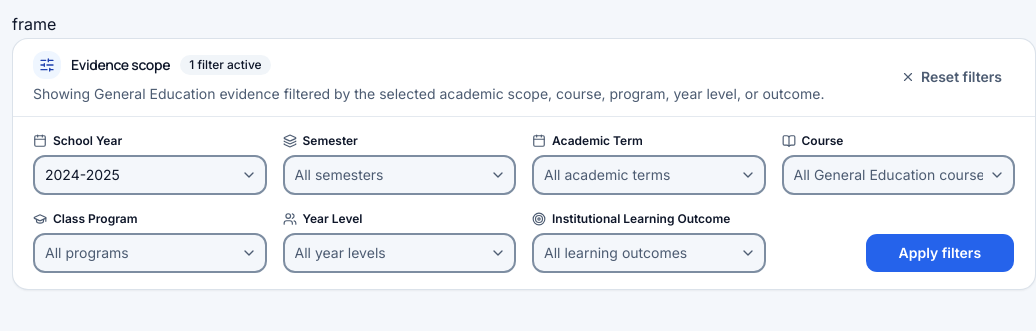
Test: GeneralEducationAnalyticsWorkspace › offers only the academic terms belonging to the selected school year
Click the dropdown labelled "academic term" at (649, 175), box [532,155,766,195]
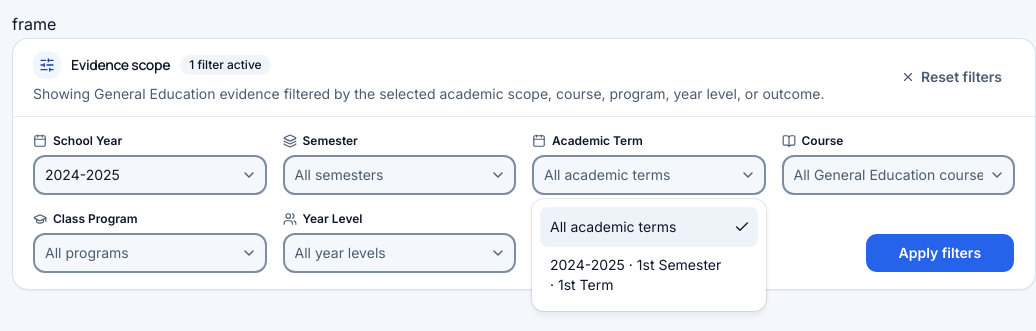
Expected: the text "2024-2025 · 1st Semester · 1st Term" is shown, [550,255,726,295]
